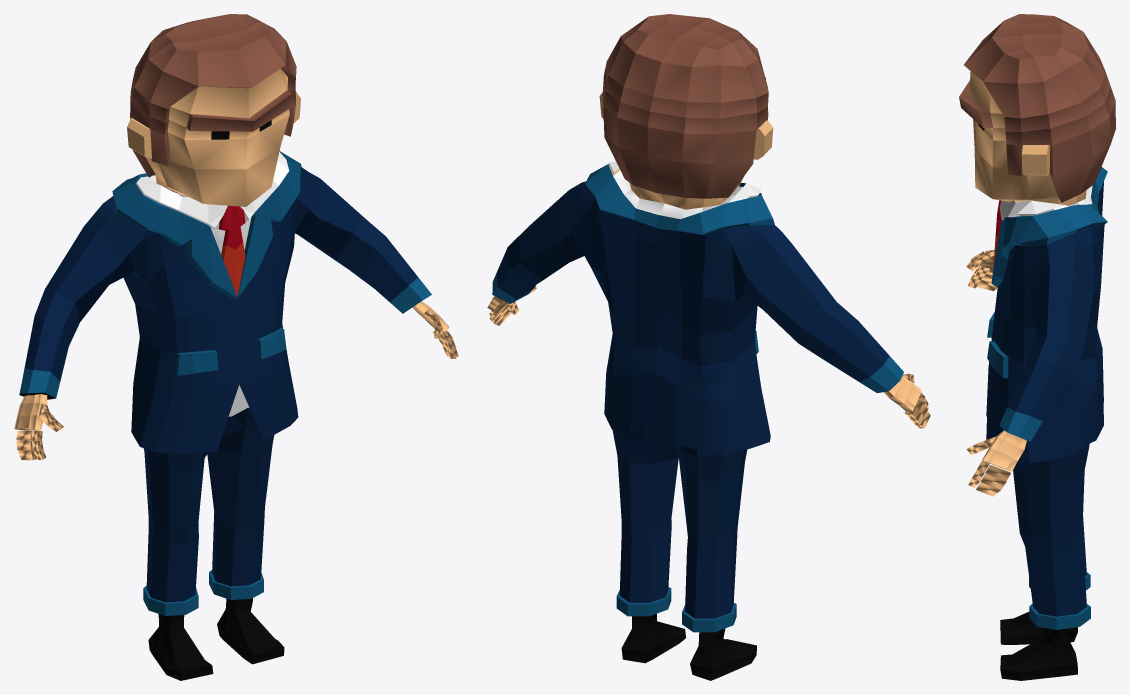
The model's file is Politician.fbx.
3 renders of one model, left to right at view 1: azimuth 30°, elevation 25°; view 2: azimuth 150°, elevation 25°; view 3: azimuth 270°, elevation 25°, orthographic.
Parts seen in each view (by area): view 1: Politician; view 2: Politician; view 3: Politician.
Part boxes in pixels (x1,y1,x2,y2): Politician: (14,14,458,680); Politician: (487,14,930,680); Politician: (959,14,1115,680).
Bounding box in the file's own units: 39.87 × 174 × 125.
